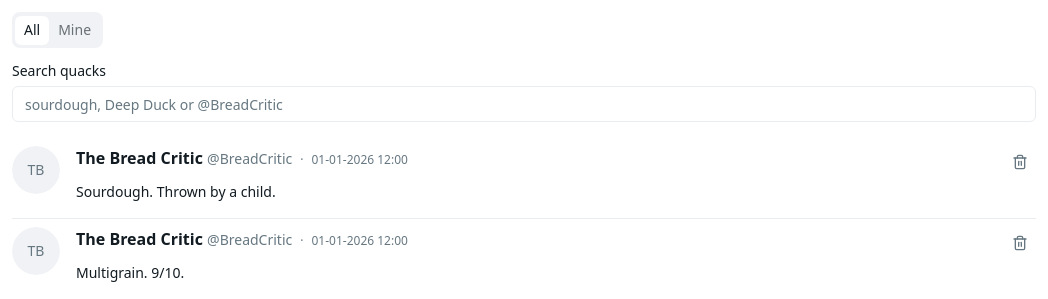
QuackFeed › shows a failed search with a retry and keeps the typed text
The width and height of the screenshot is (1048, 299).
Expected: the text "Multigrain. 9/10." is shown, [76,263,184,282]
Type "sourdough" into the search field labelled "Search quacks" at (524, 104), box [12,86,1036,122]
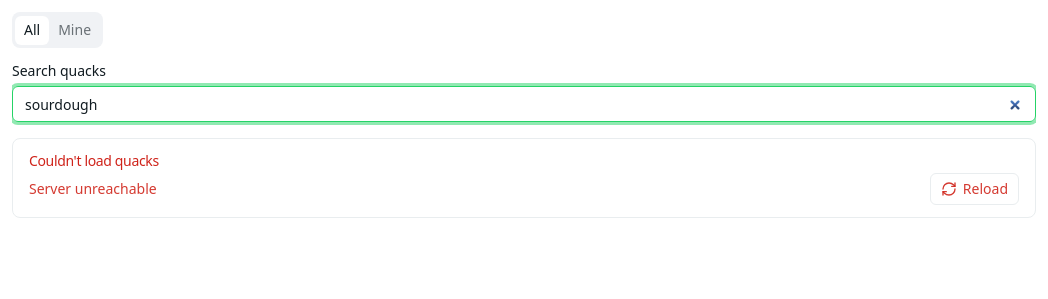
Expected: the text "Server unreachable" is shown, [29,179,157,199]
Click the button "Reload" at (974, 189), box [930,173,1019,205]
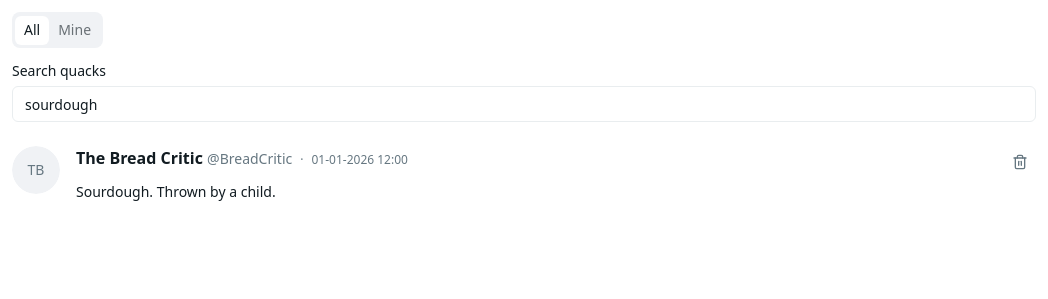
Expected: the text "Sourdough. Thrown by a child." is shown, [76,182,276,201]
Expected: the text "Server unreachable" is gone
